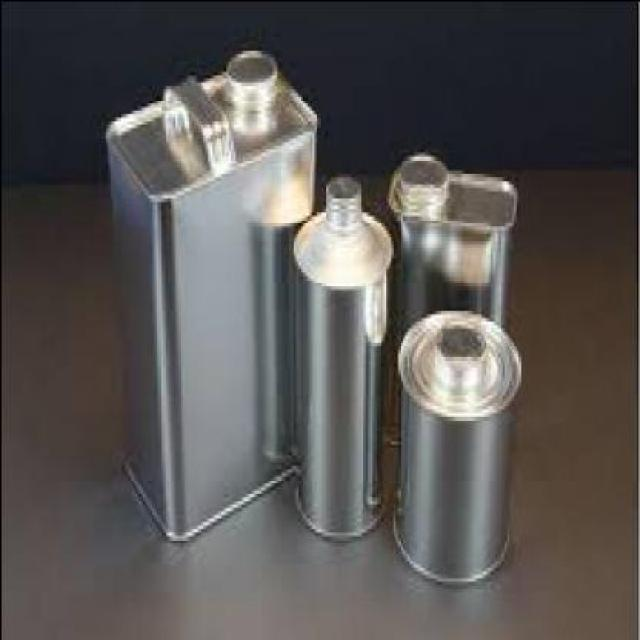METAL: (98, 42, 313, 535), (287, 165, 390, 541), (385, 147, 512, 447), (392, 305, 508, 584)
